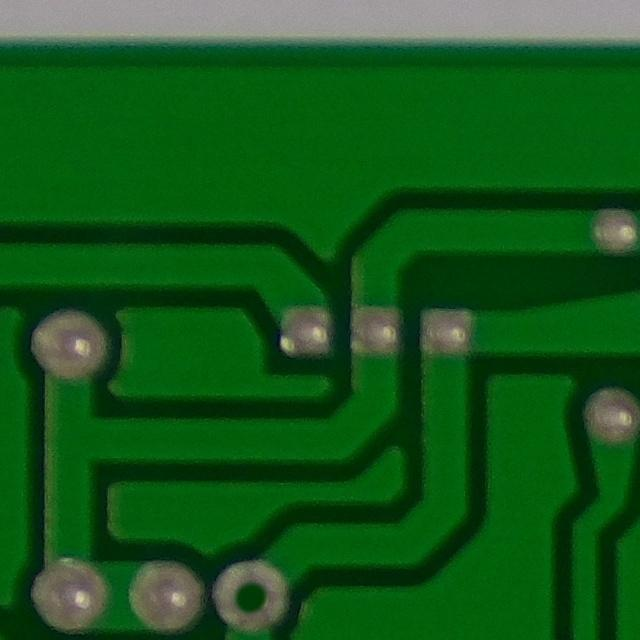missing_hole: (197, 553, 304, 640)
